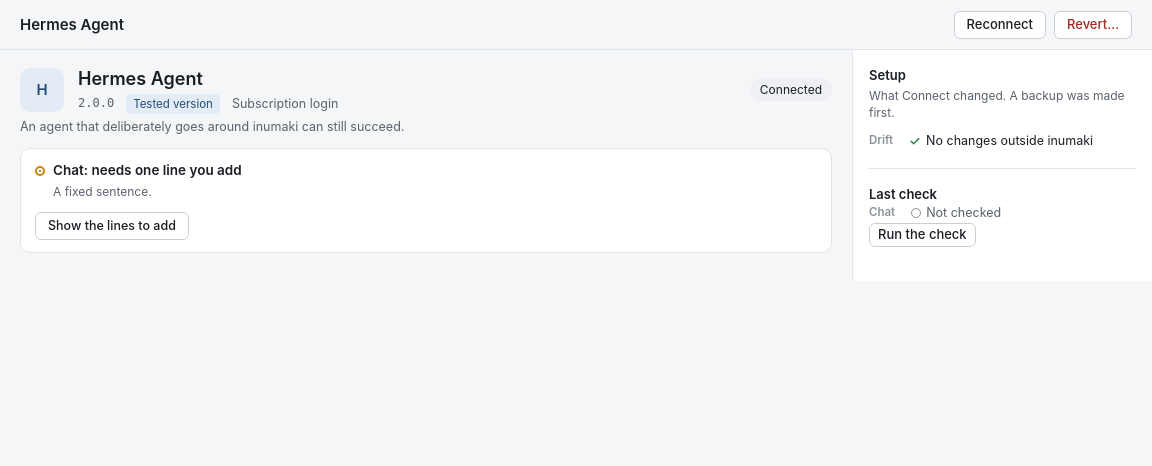
fail-closed › shows the manual-setup lines on demand, with the copy button, and never on the card
Expected: the text "A fixed sentence." is shown, [53,184,152,199]
Expected: the text "HERMES_CODEX_BASE_URL" is not shown
Click the button "Show the lines to add" at point(112, 226), box [35,212,189,240]
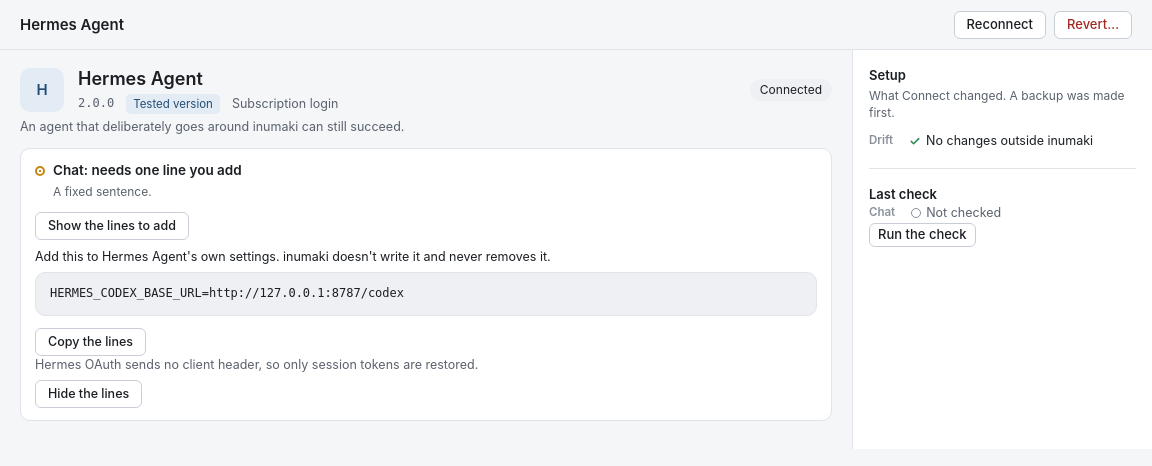
Expected: the text "HERMES_CODEX_BASE_URL=http://127.0.0.1:8787/codex" is shown, [35,272,817,316]
Expected: the text "only session tokens are restored" is shown, [35,357,478,372]
Expected: the button "Copy the lines" is shown, [35,328,146,356]
